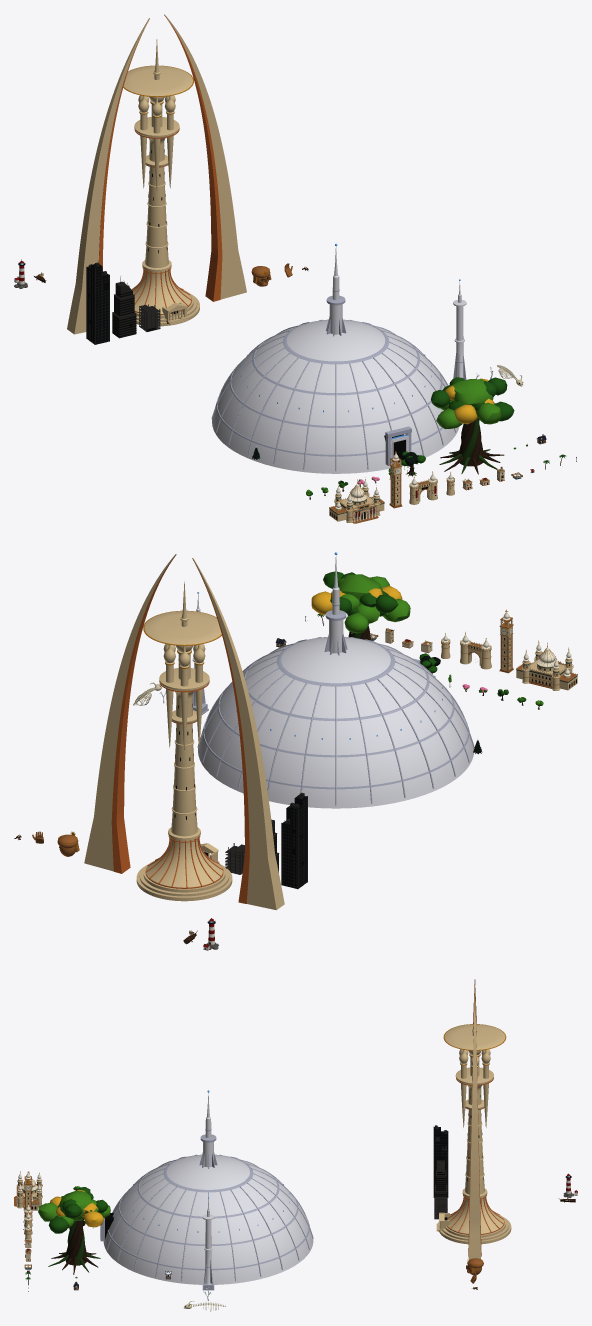
File: IslandAssets.obj
3 renders of one model, top to bottom at view 1: azimuth 30°, elevation 25°; view 2: azimuth 150°, elevation 25°; view 3: azimuth 270°, elevation 25°, orthographic. The views are drawn at different scales.
Parts seen in each view (by area): view 1: Bastion__Bastion, Watchtower__Stone_1, Bastion__BastionTrim, Watchtower__Stone_2, Watchtower__Trim, Watchtower__Stone_3, Skyscraper_A__Glass, WorldTree__LeavesLight, Skyscraper_A__Concrete, WorldTree__Leaves, Skyscraper_B__Concrete, Palace__Stone_1 (+3 smaller); view 2: Bastion__Bastion, Watchtower__Stone_1, Bastion__BastionTrim, Watchtower__Trim, Watchtower__Stone_2, Watchtower__Stone_3, WorldTree__LeavesLight, Skyscraper_A__Glass, Skyscraper_A__Concrete, Palace__Stone_1, WorldTree__Leaves, WorldTree__LeavesGold (+2 smaller); view 3: Bastion__Bastion, Bastion__BastionTrim, Watchtower__Stone_1, Watchtower__Stone_2, Watchtower__Stone_3, Watchtower__Trim, WorldTree__LeavesLight, WorldTree__Leaves, WorldTree__Bark, Skyscraper_A__Glass, WorldTree__LeavesGold, NeedleTower__Bastion (+1 smaller).
Boxes of the visible parts, x1,y1,x2,y2 form: Bastion__Bastion: (212,246,459,473); Watchtower__Stone_1: (67,151,246,334); Bastion__BastionTrim: (211,289,455,471); Watchtower__Stone_2: (91,77,223,184); Watchtower__Trim: (98,15,222,315); Watchtower__Stone_3: (112,14,201,105); Skyscraper_A__Glass: (87,264,109,344); WorldTree__LeavesLight: (436,379,501,429); Skyscraper_A__Concrete: (86,262,109,344); WorldTree__Leaves: (431,377,514,421); Skyscraper_B__Concrete: (112,281,136,338); Palace__Stone_1: (329,487,384,522); Bastion__Bastion: (198,555,473,808); Watchtower__Stone_1: (84,706,284,910); Bastion__BastionTrim: (197,603,474,805); Watchtower__Trim: (111,554,249,903); Watchtower__Stone_2: (110,624,258,743); Watchtower__Stone_3: (134,554,236,653); WorldTree__LeavesLight: (330,574,410,633); Skyscraper_A__Glass: (282,796,306,888); Skyscraper_A__Concrete: (281,792,307,889); Palace__Stone_1: (516,651,577,690); WorldTree__Leaves: (323,571,398,616); WorldTree__LeavesGold: (311,585,402,615); Bastion__Bastion: (100,1093,313,1284); Bastion__BastionTrim: (100,1129,313,1281); Watchtower__Stone_1: (436,1109,511,1259); Watchtower__Stone_2: (455,1049,493,1136); Watchtower__Stone_3: (444,979,505,1066); Watchtower__Trim: (447,980,504,1256); WorldTree__LeavesLight: (38,1190,110,1228); WorldTree__Leaves: (48,1187,108,1233); WorldTree__Bark: (51,1218,98,1274); Skyscraper_A__Glass: (434,1127,448,1196); WorldTree__LeavesGold: (49,1190,103,1227); NeedleTower__Bastion: (202,1199,214,1284).
Bounding box in the file's own units: 116 × 115 × 236.
